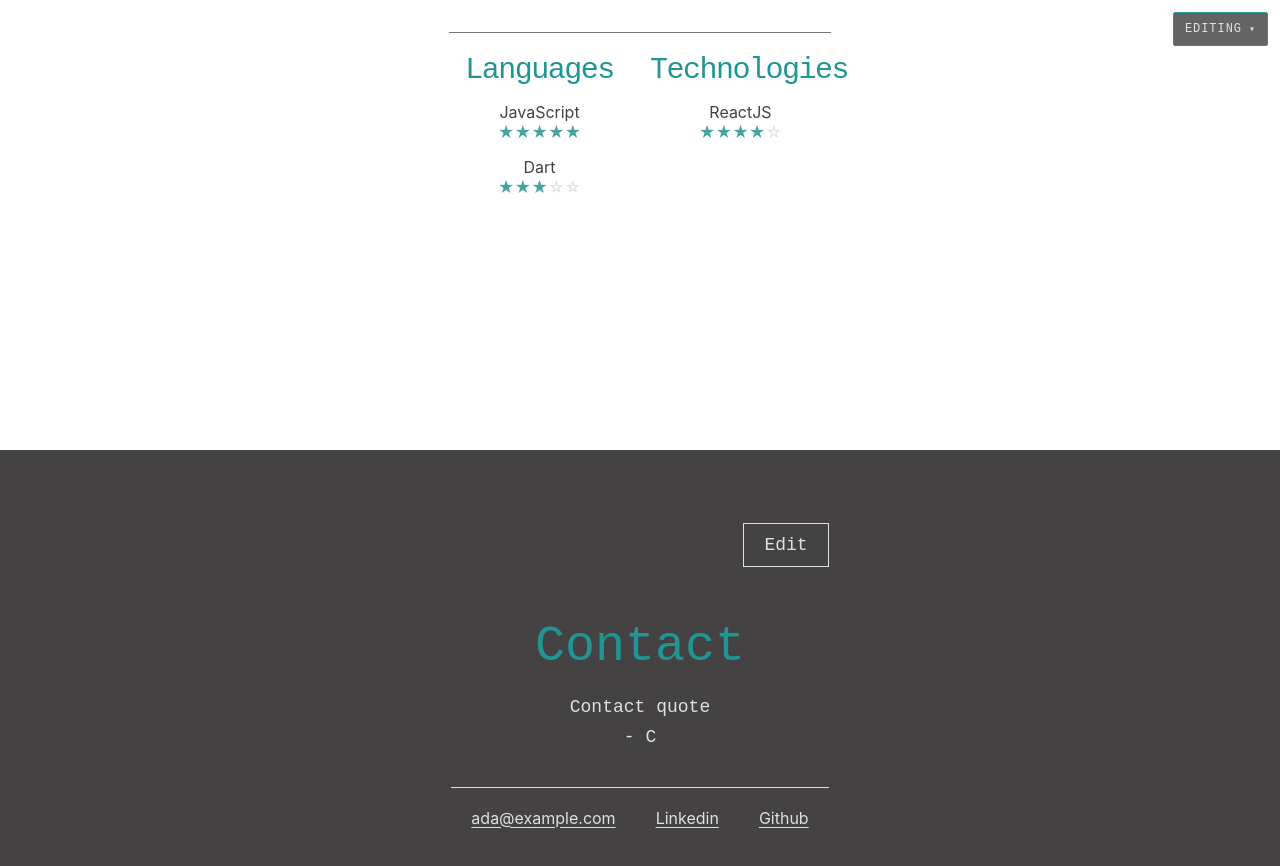
edit flow: editing the remaining profile fields › restores the links when the editor closes
The width and height of the screenshot is (1280, 866).
(page scrolled)
Click the button with class "editcontrol" at (786, 544), box [743,522,829,566]
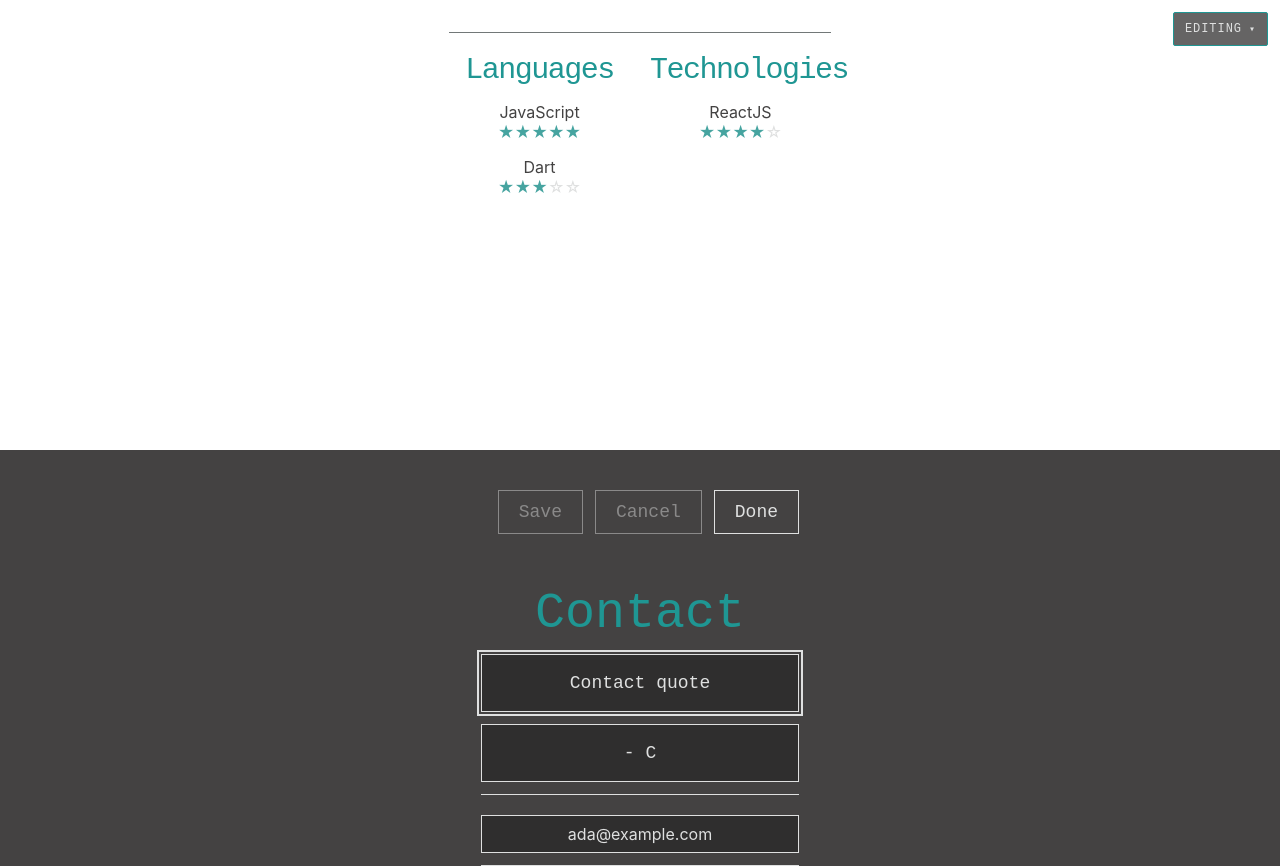
Click the button with class "editcontrol" showing "Done" at (756, 512), box [714,490,799,534]
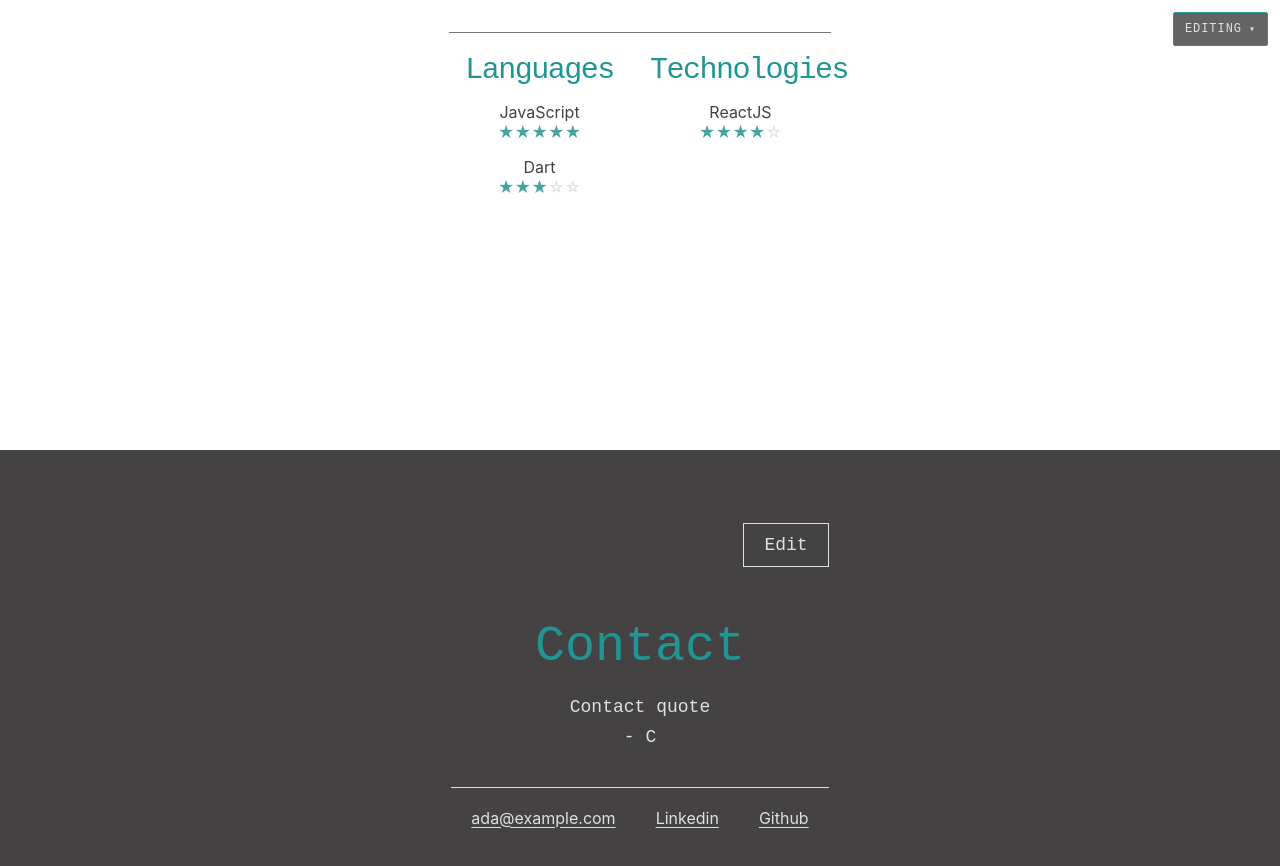
Expected: the number of links is 3, [471,808,616,828]; [656,808,719,828]; [759,808,809,828]
